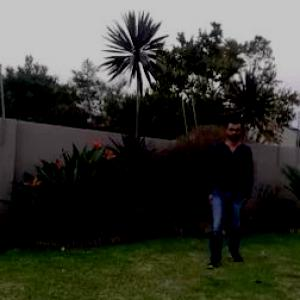follow: (206, 113, 250, 262)
